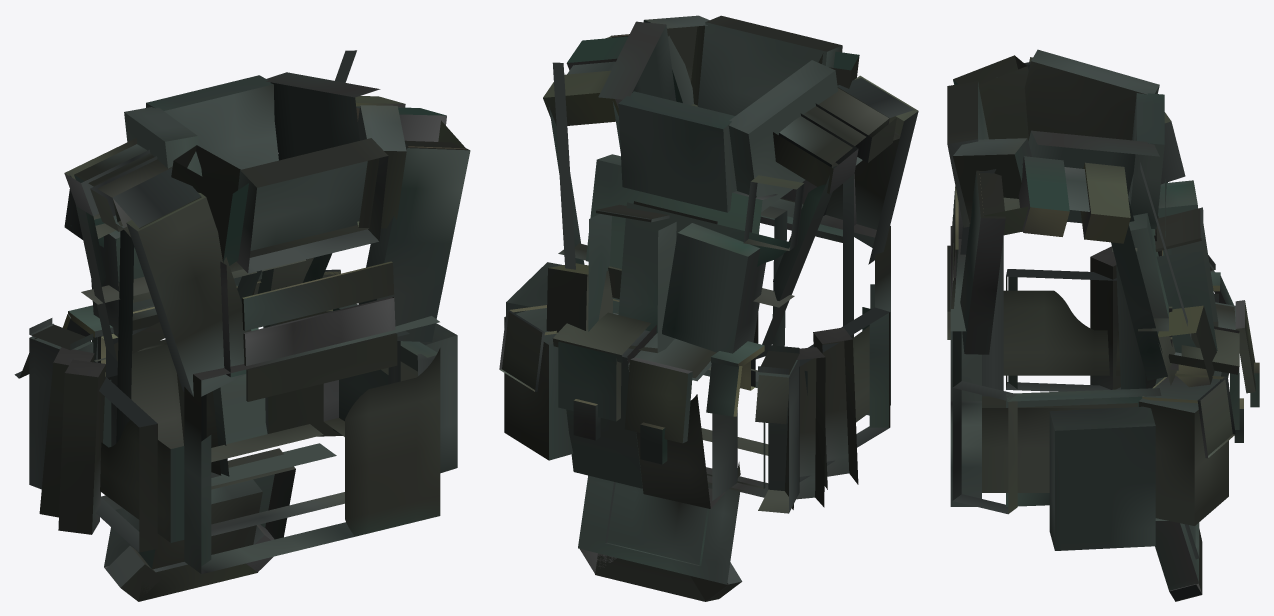
Rendered from hazard_kit.obj.
3 views of the same model, side by side, from view 1: azimuth 30°, elevation 25°; view 2: azimuth 150°, elevation 25°; view 3: azimuth 270°, elevation 25° (orthographic). The views are drawn at different scales.
Visible parts, largest first — view 1: plane; view 2: plane; view 3: plane.
Part boxes in pixels (x1=…): plane: x1=14, y1=50, x2=470, y2=601; plane: x1=499, y1=15, x2=918, y2=601; plane: x1=947, y1=49, x2=1259, y2=601.
Bounding box in the file's own units: 0.7692 × 1.13 × 0.6254.
